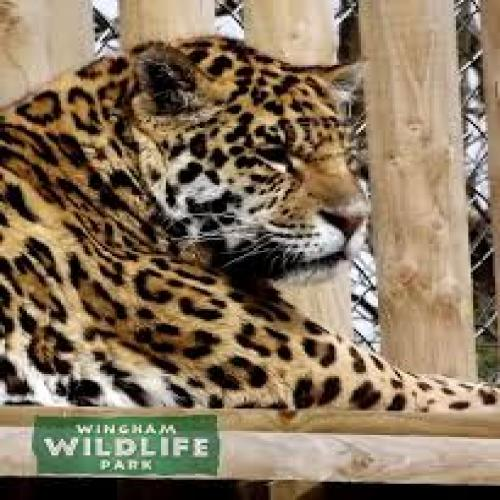jaguar_not-endangered: (0, 37, 500, 406)
